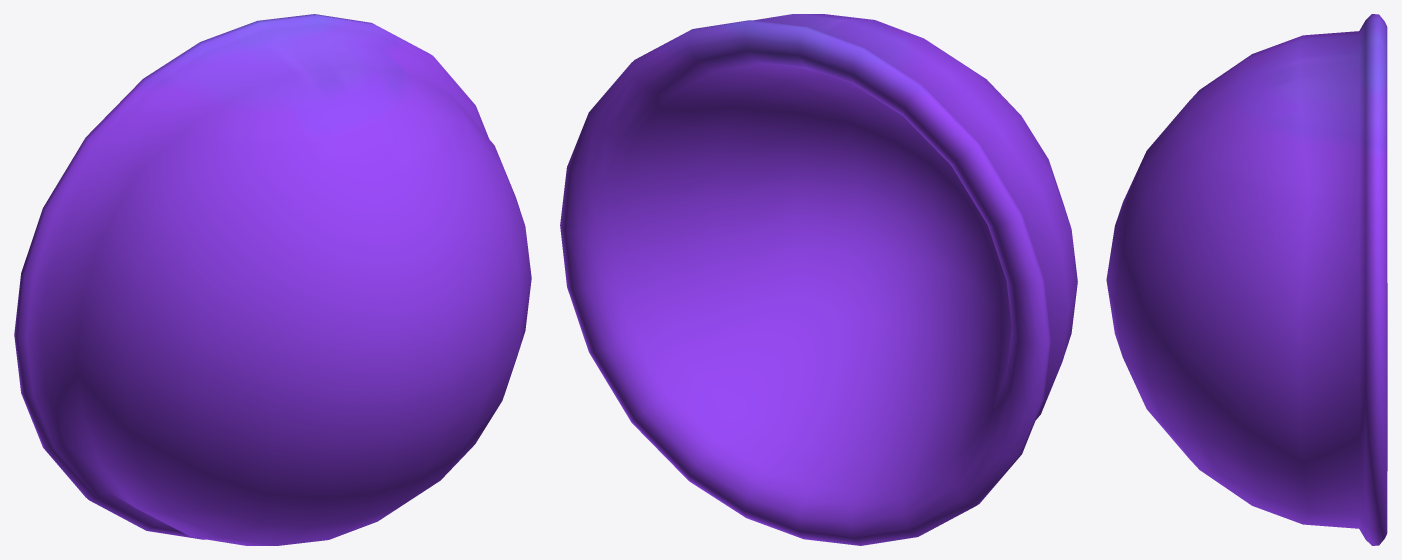
The model's file is AmongUs_Cut_04_Pupka_003_0.FBX.
3 renders of one model, left to right at view 1: azimuth 30°, elevation 25°; view 2: azimuth 150°, elevation 25°; view 3: azimuth 270°, elevation 25°, orthographic. The views are drawn at different scales.
Visible parts, largest first — view 1: AmongUs_Cut_04_Pupka_003_0; view 2: AmongUs_Cut_04_Pupka_003_0; view 3: AmongUs_Cut_04_Pupka_003_0.
Part boxes in pixels (left/top/right/bottom): AmongUs_Cut_04_Pupka_003_0: left=14, top=14, right=531, bottom=545; AmongUs_Cut_04_Pupka_003_0: left=560, top=14, right=1077, bottom=545; AmongUs_Cut_04_Pupka_003_0: left=1106, top=14, right=1387, bottom=545.
Size of the model in its own units: 0.7857 by 0.4145 by 0.7857.
